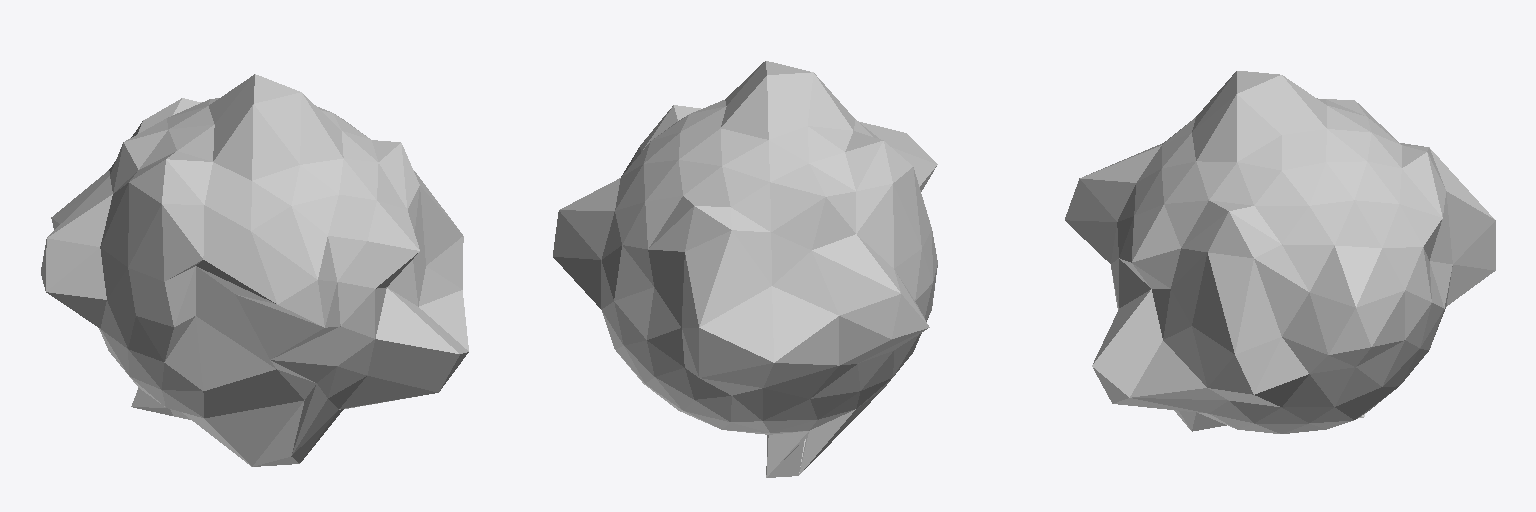
File: MountainTerrain.obj
3 views of the same model, side by side, from view 1: azimuth 30°, elevation 25°; view 2: azimuth 150°, elevation 25°; view 3: azimuth 270°, elevation 25° (orthographic).
Parts seen in each view (by area): view 1: MountainTerrain; view 2: MountainTerrain; view 3: MountainTerrain.
Boxes of the visible parts, x1=… form: MountainTerrain: x1=41, y1=74, x2=468, y2=466; MountainTerrain: x1=553, y1=61, x2=937, y2=477; MountainTerrain: x1=1065, y1=71, x2=1495, y2=433.
Size of the model in its own units: 1.26 by 1.17 by 1.26.